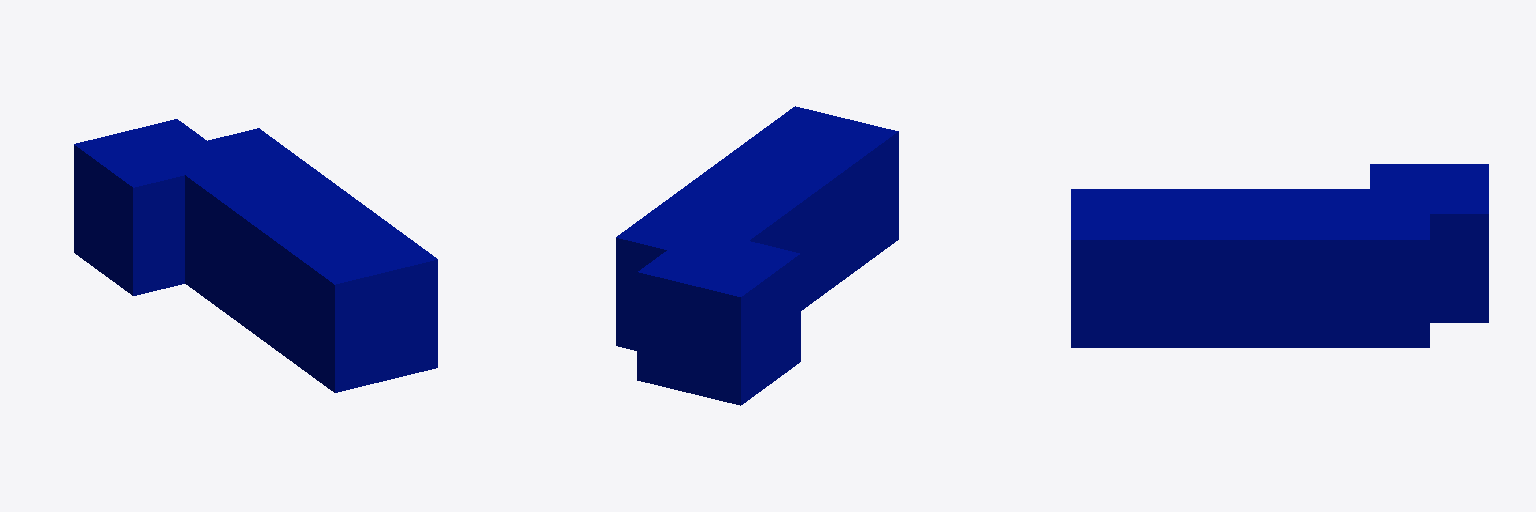
The model's file is tolliver.obj.
3 views of the same model, side by side, from view 1: azimuth 30°, elevation 25°; view 2: azimuth 150°, elevation 25°; view 3: azimuth 270°, elevation 25° (orthographic).
Visible parts, largest first — view 1: Cube; view 2: Cube; view 3: Cube.
Part boxes in pixels (left/top/right/bottom): Cube: left=74, top=119, right=437, bottom=392; Cube: left=616, top=106, right=898, bottom=405; Cube: left=1071, top=164, right=1488, bottom=347.
Size of the model in its own units: 3 by 2 by 7.